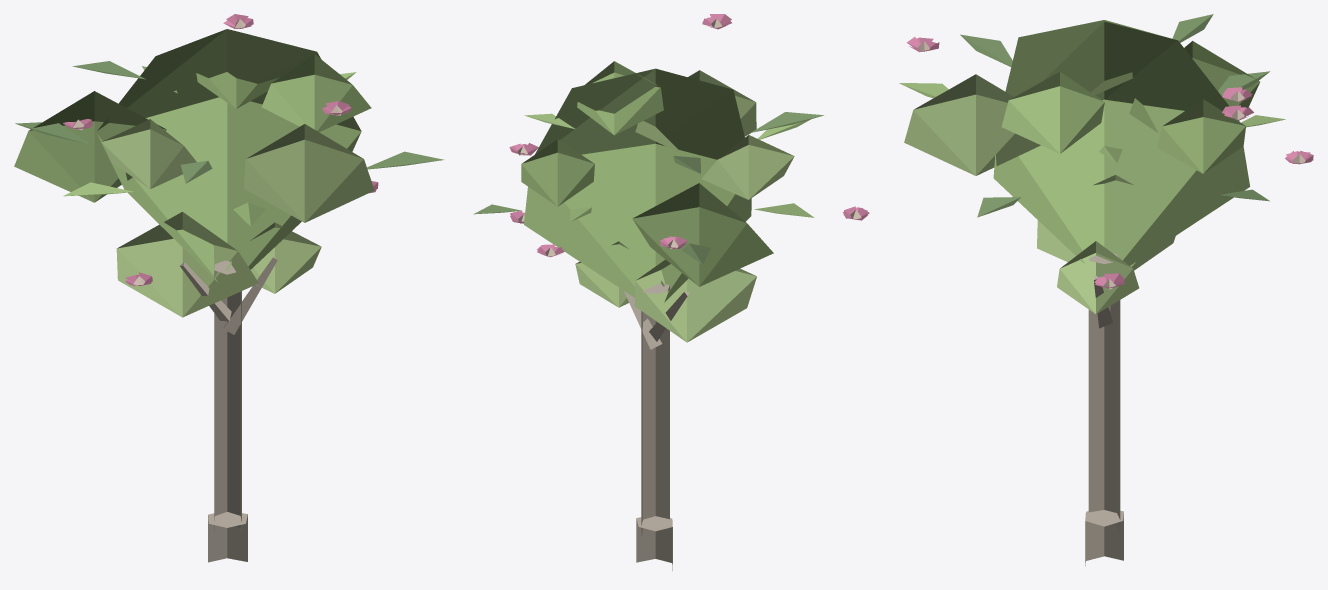
Rendered from shu.chuizhi__bloom.glb.
3 views of the same model, side by side, from view 1: azimuth 30°, elevation 25°; view 2: azimuth 150°, elevation 25°; view 3: azimuth 270°, elevation 25° (orthographic). The views are drawn at different scales.
Visible parts, largest first — view 1: shu.chuizhi__bloom; view 2: shu.chuizhi__bloom; view 3: shu.chuizhi__bloom.
Boxes of the visible parts, x1,y1,x2,y2 form: shu.chuizhi__bloom: (14, 14, 444, 562); shu.chuizhi__bloom: (473, 14, 869, 570); shu.chuizhi__bloom: (899, 14, 1313, 566).
Size of the model in its own units: 6.6 by 10.27 by 7.08.
